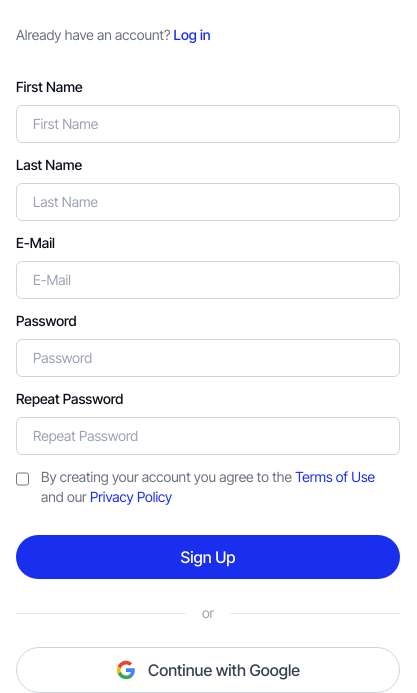
Test case: SignupForm › Google OAuth sign-in › should show loading state while Google sign-in is in progress
Click the button "Continue with Google".
click(208, 670)  # box [16, 647, 400, 692]
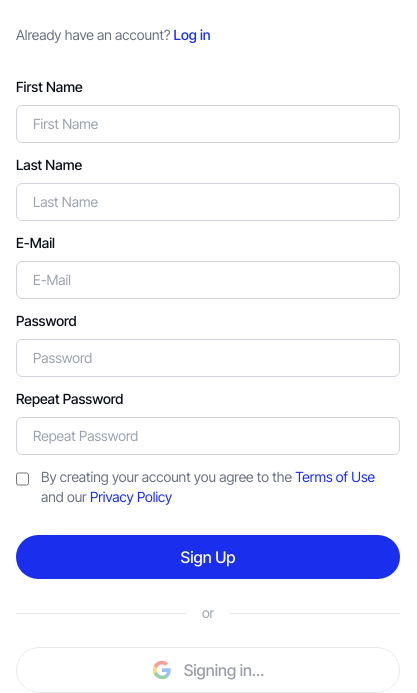
Result: the button "Signing in..." is shown at [16, 647, 400, 692]
